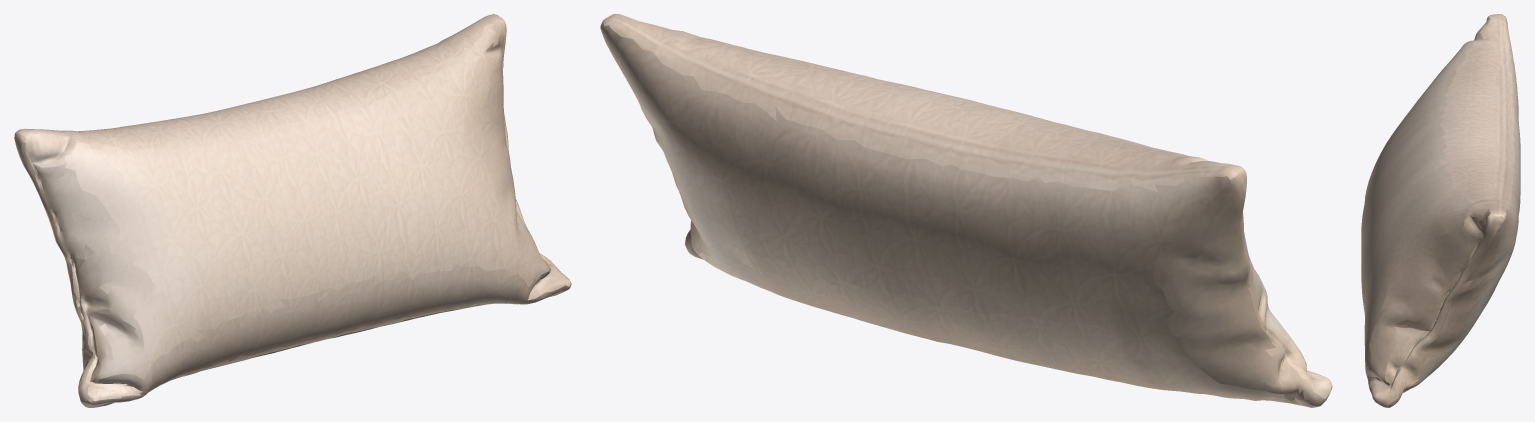
File: L01-pillow-005.glb
The picture shows the model from 3 angles, left to right: view 1: azimuth 30°, elevation 25°; view 2: azimuth 150°, elevation 25°; view 3: azimuth 270°, elevation 25°; orthographic projection. The views are drawn at different scales.
Parts seen in each view (by area): view 1: geometry_0; view 2: geometry_0; view 3: geometry_0.
Boxes of the visible parts, x1,y1,x2,y2 form: geometry_0: [14, 14, 571, 407]; geometry_0: [600, 14, 1332, 407]; geometry_0: [1361, 14, 1520, 407].
Size of the model in its own units: 0.9 by 0.4084 by 0.2987.
1 material, 1 textured.
